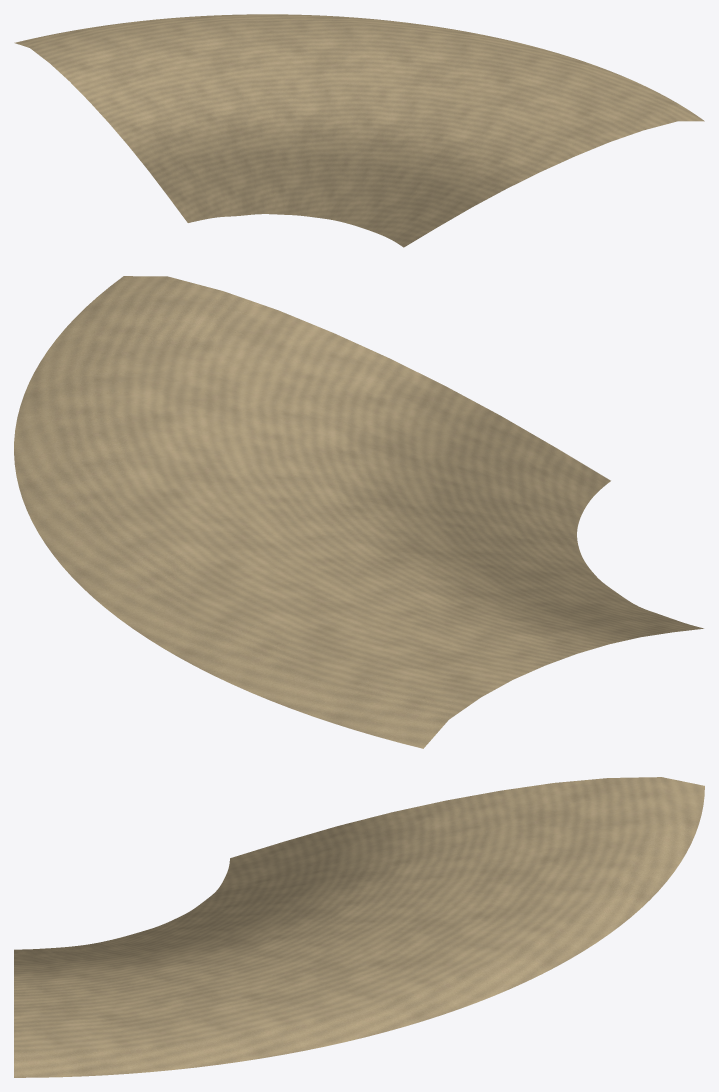
The model's file is beach_sand_inner_v5_summer.glb.
The picture shows the model from 3 angles, top to bottom: view 1: azimuth 30°, elevation 25°; view 2: azimuth 150°, elevation 25°; view 3: azimuth 270°, elevation 25°; orthographic projection. The views are drawn at different scales.
Parts seen in each view (by area): view 1: beach_sand_inner; view 2: beach_sand_inner; view 3: beach_sand_inner.
Boxes of the visible parts, bbox=[...] form: beach_sand_inner: bbox=[14, 14, 704, 247]; beach_sand_inner: bbox=[14, 276, 703, 748]; beach_sand_inner: bbox=[14, 777, 704, 1077].
Size of the model in its own units: 6.4 by 0.8495 by 6.4.
Materials: 1 (1 with a texture image).
